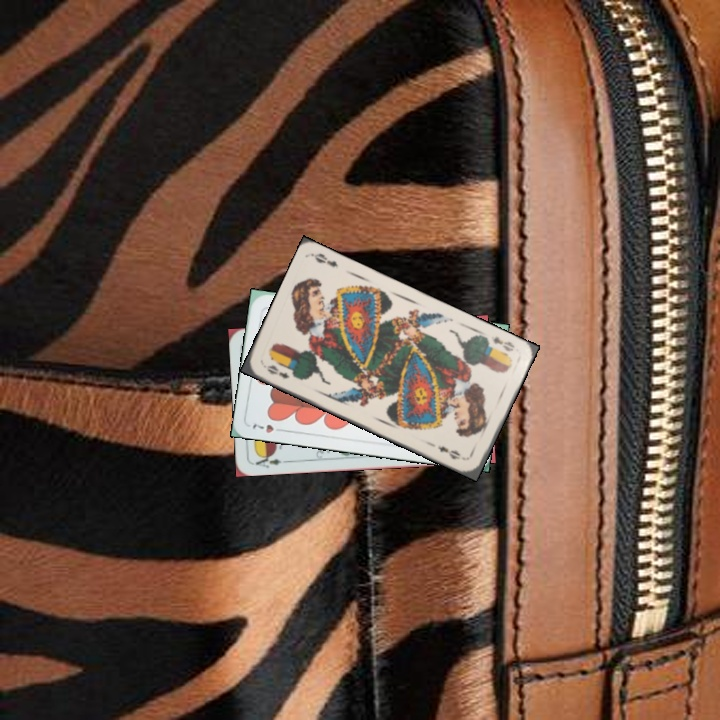EA: (251, 450, 290, 471)
EO: (487, 332, 518, 354), (263, 361, 292, 381)
H7: (249, 420, 287, 435)
